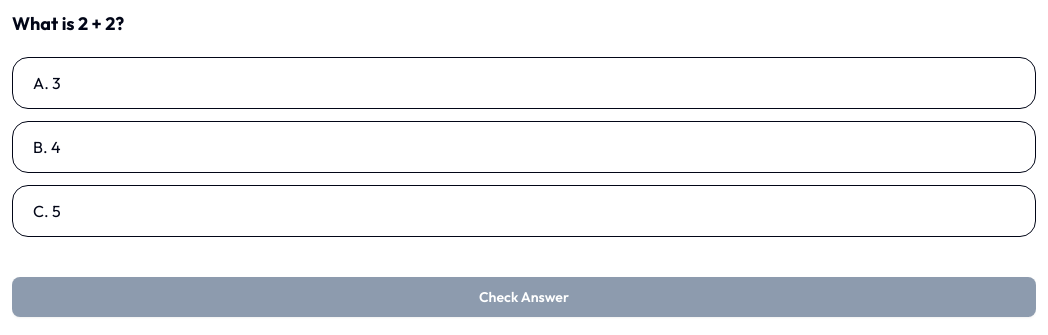
Test case: QuizInlineViewer › enables Check Answer after selecting an option
This screenshot has width=1048, height=335.
Click the button "B. 4". click: (38,147)
box: x1=12 y1=121 x2=1036 y2=173
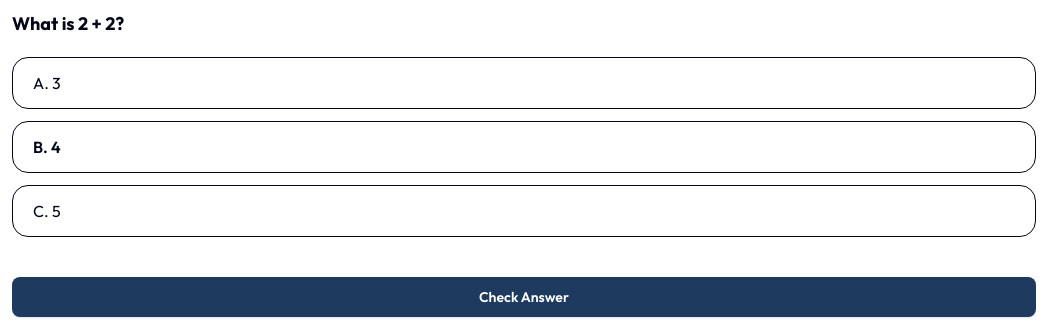
Check: the button "Check Answer" is enabled, box x1=12 y1=277 x2=1036 y2=317
